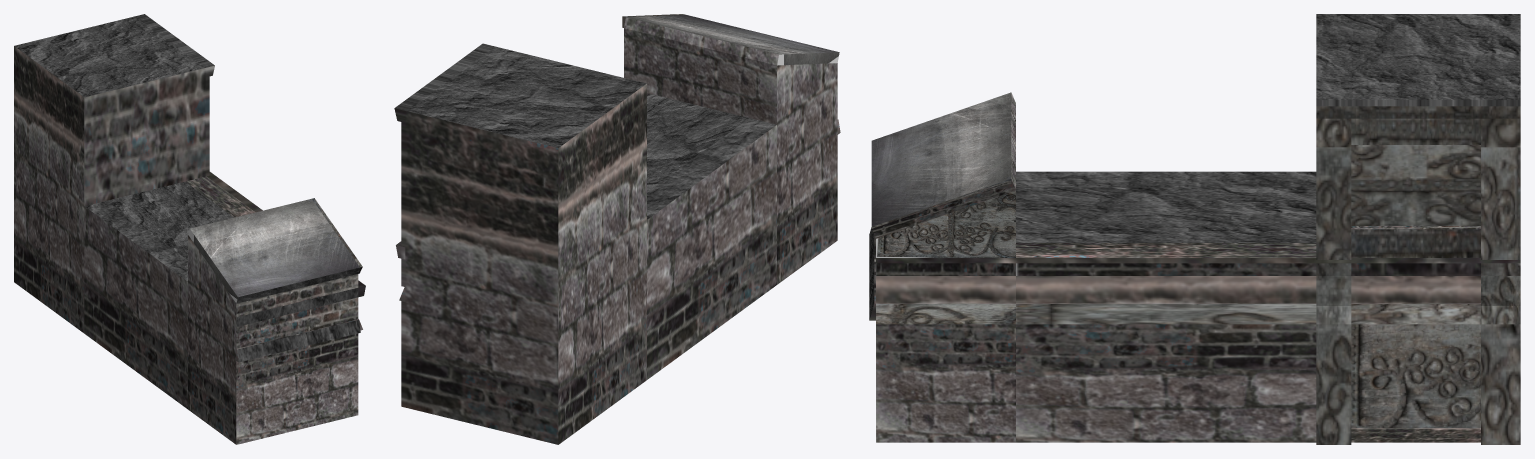
The model's file is smith.fbx.
The picture shows the model from 3 angles, left to right: view 1: azimuth 30°, elevation 25°; view 2: azimuth 150°, elevation 25°; view 3: azimuth 270°, elevation 25°; orthographic projection. The views are drawn at different scales.
Parts seen in each view (by area): view 1: Cube; view 2: Cube; view 3: Cube.
Part boxes in pixels (x1,y1,x2,y2): Cube: (14, 14, 365, 444); Cube: (394, 14, 840, 444); Cube: (869, 14, 1520, 444).
Size of the model in its own units: 214 by 370 by 638.
